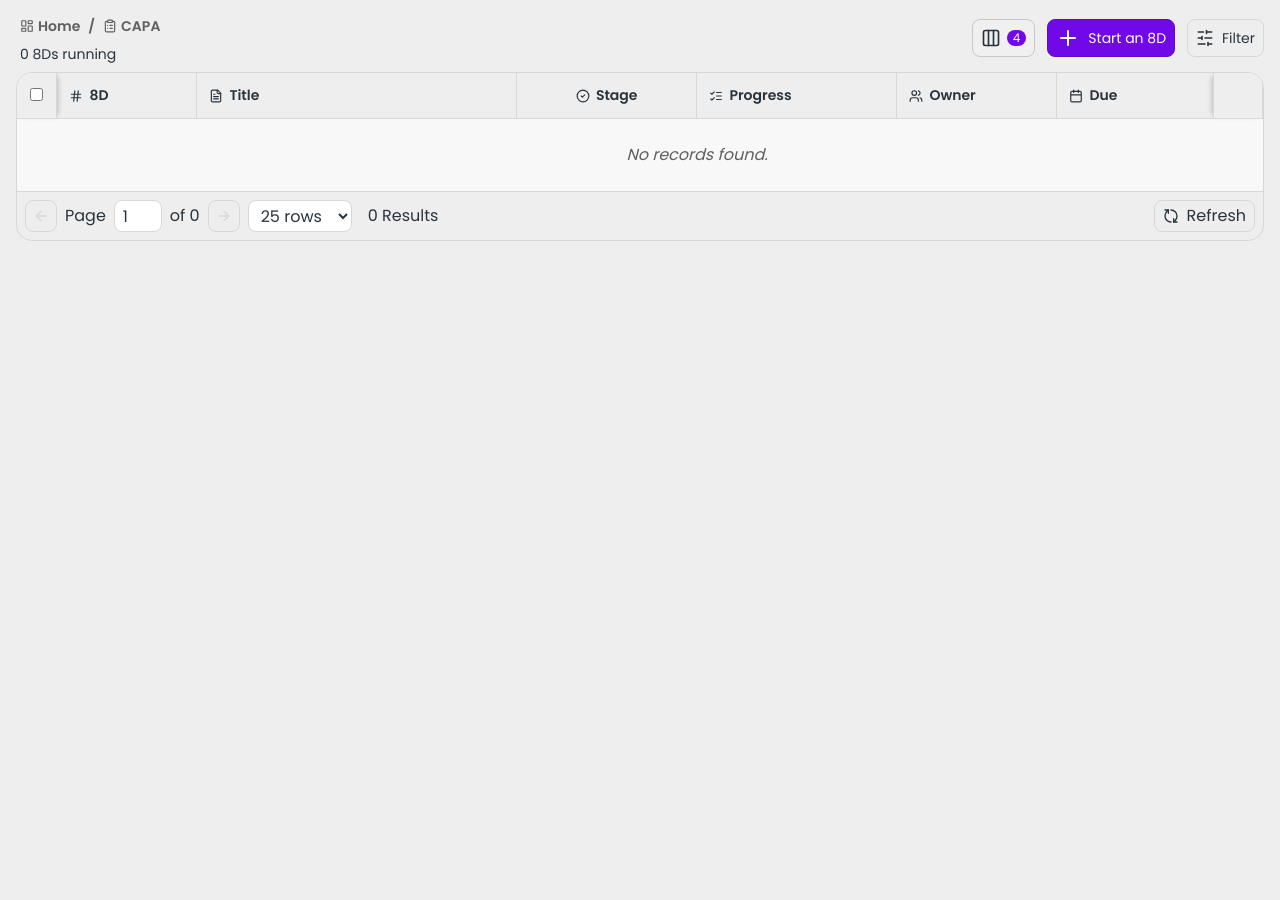
Test: 8D register › starts an 8D from the register and opens D0; there is no button without capa.manage
Later steps or results of the test are not shown.
Click the button "Start an 8D": (1111, 38) [1047, 19, 1175, 57]
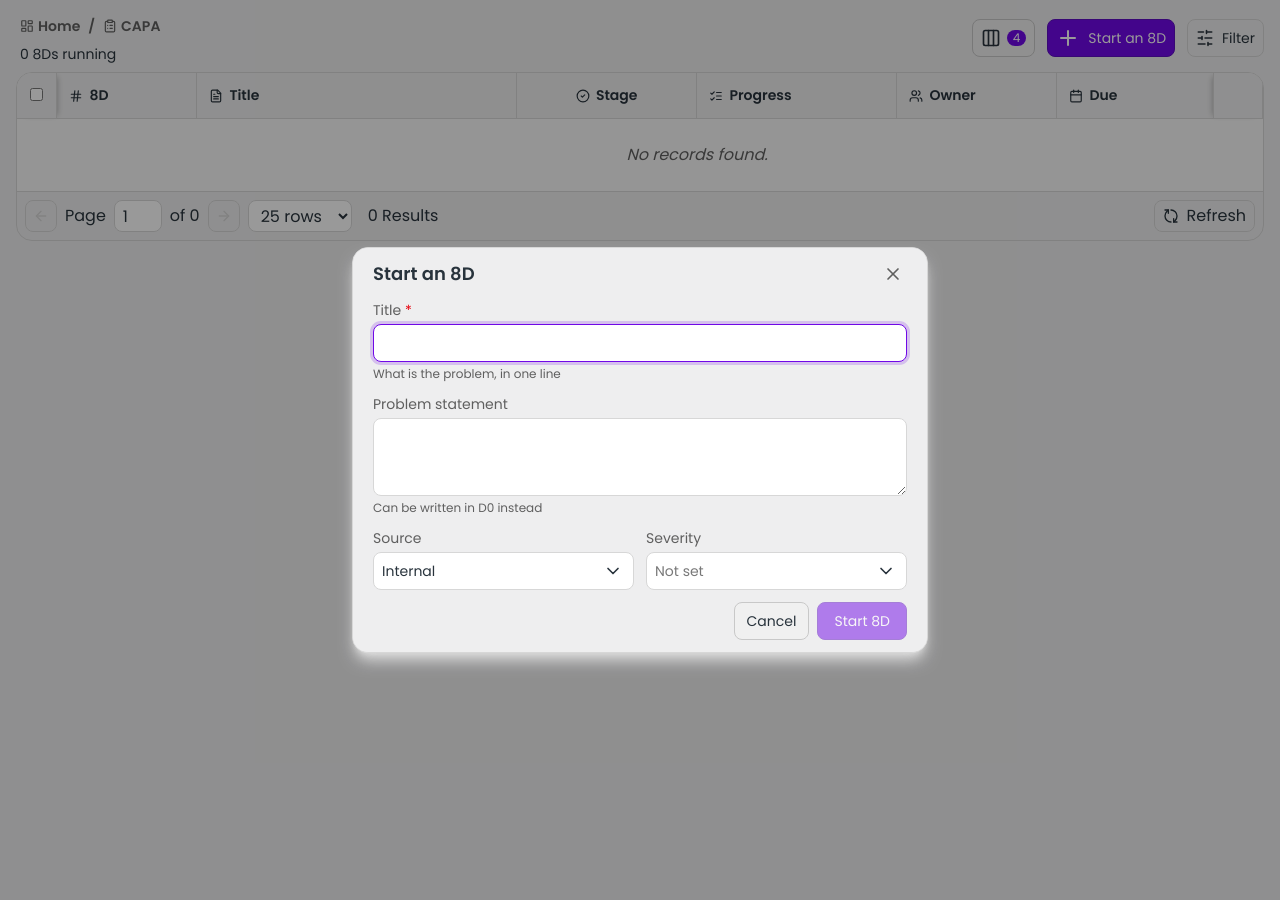
Expected: the button "Start 8D" is disabled, [817, 602, 907, 640]
